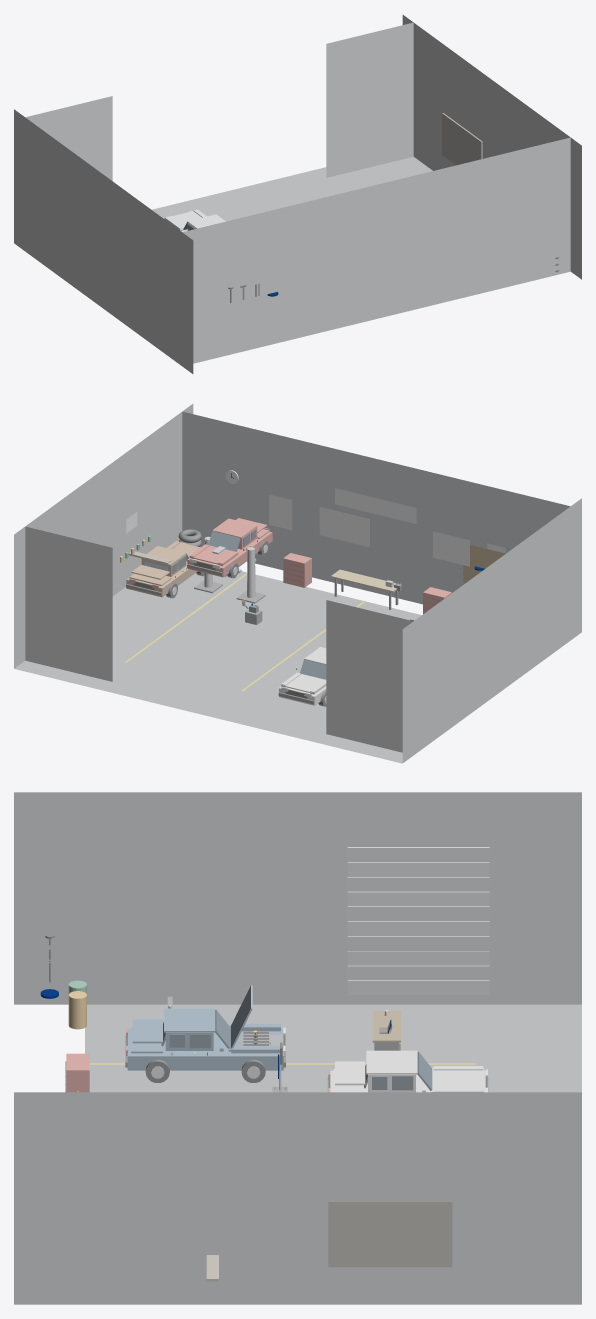
The picture shows the model from 3 angles, top to bottom: view 1: azimuth 30°, elevation 25°; view 2: azimuth 150°, elevation 25°; view 3: azimuth 270°, elevation 25°; orthographic projection. The views are drawn at different scales.
Size of the model in its own units: 21.6 by 6.61 by 16.
